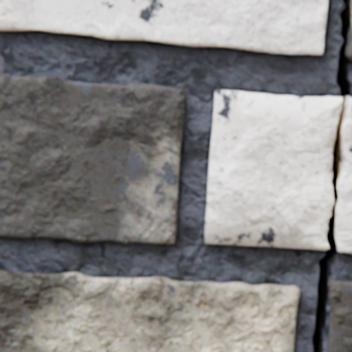brick: (0, 73, 185, 243), (0, 269, 299, 351), (0, 0, 328, 54), (327, 279, 351, 351), (346, 1, 351, 60)
broken_brick: (205, 90, 342, 249), (335, 99, 351, 253)
crack: (312, 0, 351, 351)
